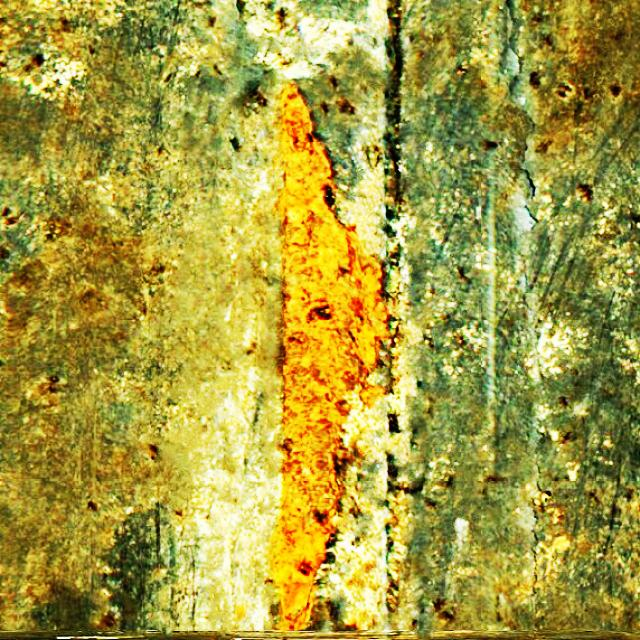Corrosion: (276, 87, 384, 631)
